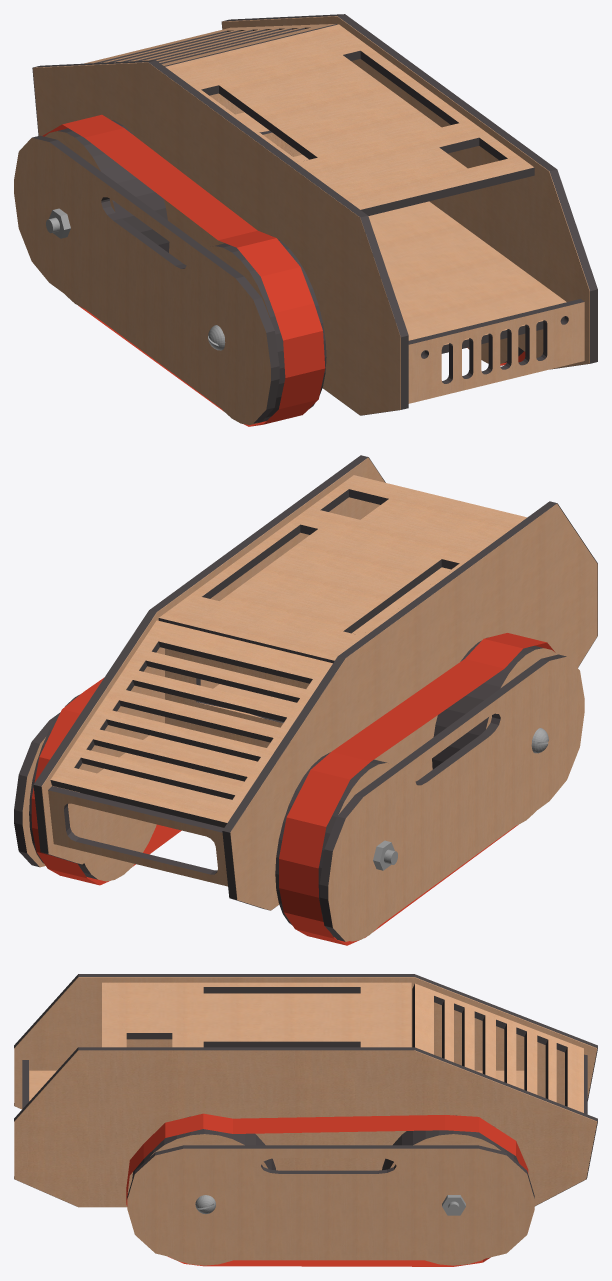
File: Robot chassis.glb
The picture shows the model from 3 angles, top to bottom: view 1: azimuth 30°, elevation 25°; view 2: azimuth 150°, elevation 25°; view 3: azimuth 270°, elevation 25°; orthographic projection. The views are drawn at different scales.
Parts seen in each view (by area): view 1: Cube.001, Cube.011, Cube.002, Cube.007, Cube, Plane.001, Cube.006, Cube.023, Cube.008, Cube.003, Cube.004, Cylinder.011 (+10 smaller); view 2: Cube.001, Cube.011, Cube.002, Cube.004, Plane.001, Cube, Cube.017, Cube.008, Cube.003, Cube.007, Cube.023, Cube.005 (+12 smaller); view 3: Cube, Cube.025, Cube.002, Cube.001, Plane, Cube.004, Cube.003, Cube.022, Cube.008, Cube.017, Cube.013, Cube.014 (+5 smaller).
Part boxes in pixels (x1,y1,x2,y2): Cube.001: (33, 62, 400, 415); Cube.011: (14, 138, 270, 423); Cube.002: (165, 24, 533, 209); Cube.007: (235, 112, 566, 344); Cube: (222, 16, 589, 368); Plane.001: (42, 114, 325, 426); Cube.006: (408, 302, 584, 403); Cube.023: (32, 135, 279, 423); Cube.008: (32, 60, 408, 415); Cube.003: (221, 14, 597, 369); Cube.004: (84, 24, 335, 65); Cylinder.011: (58, 120, 169, 252); Cube.001: (230, 504, 597, 910); Cube.011: (328, 656, 584, 941); Cube.002: (159, 475, 526, 660); Cube.004: (50, 620, 332, 822); Plane.001: (279, 633, 555, 945); Cube: (41, 457, 384, 864); Cube.017: (50, 641, 312, 827); Cube.008: (222, 501, 597, 910); Cube.003: (33, 455, 385, 864); Cube.007: (97, 567, 450, 805); Cube.023: (319, 654, 566, 941); Cube.005: (48, 790, 227, 886); Cube: (14, 1050, 597, 1207); Cube.025: (127, 1148, 534, 1260); Cube.002: (102, 982, 411, 1047); Cube.001: (14, 977, 597, 1109); Plane: (126, 1113, 528, 1266); Cube.004: (415, 983, 583, 1112); Cube.003: (14, 1047, 597, 1206); Cube.022: (127, 1145, 534, 1198); Cube.008: (14, 974, 597, 1106); Cube.017: (412, 984, 567, 1106); Cube.013: (203, 987, 360, 993); Cube.014: (203, 1041, 360, 1047).
Bounding box in the file's own units: 3.66 × 2.54 × 6.75.
8 materials, 2 textured.
